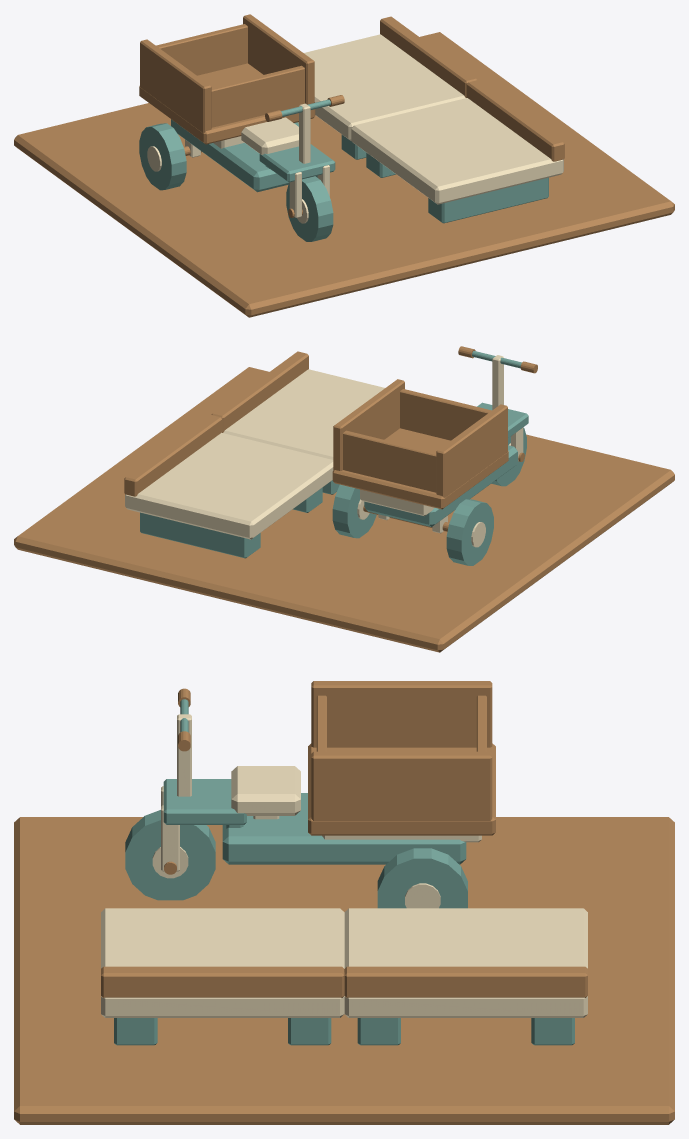
3 renders of one model, top to bottom at view 1: azimuth 30°, elevation 25°; view 2: azimuth 150°, elevation 25°; view 3: azimuth 270°, elevation 25°, orthographic. The views are drawn at different scales.
Parts seen in each view (by area): view 1: transport-cargo-stop-scene-01; view 2: transport-cargo-stop-scene-01; view 3: transport-cargo-stop-scene-01.
Part boxes in pixels (x1,y1,x2,y2): transport-cargo-stop-scene-01: [14, 14, 674, 317]; transport-cargo-stop-scene-01: [14, 346, 674, 652]; transport-cargo-stop-scene-01: [14, 681, 674, 1124].
Size of the model in its own units: 4 by 1.27 by 3.8.
